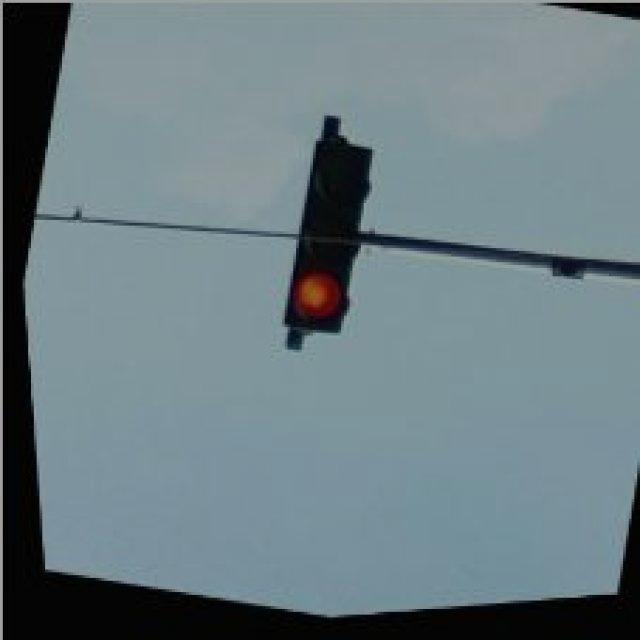Red: (258, 135, 385, 350)
